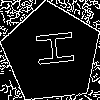H: (27, 28, 75, 69)
